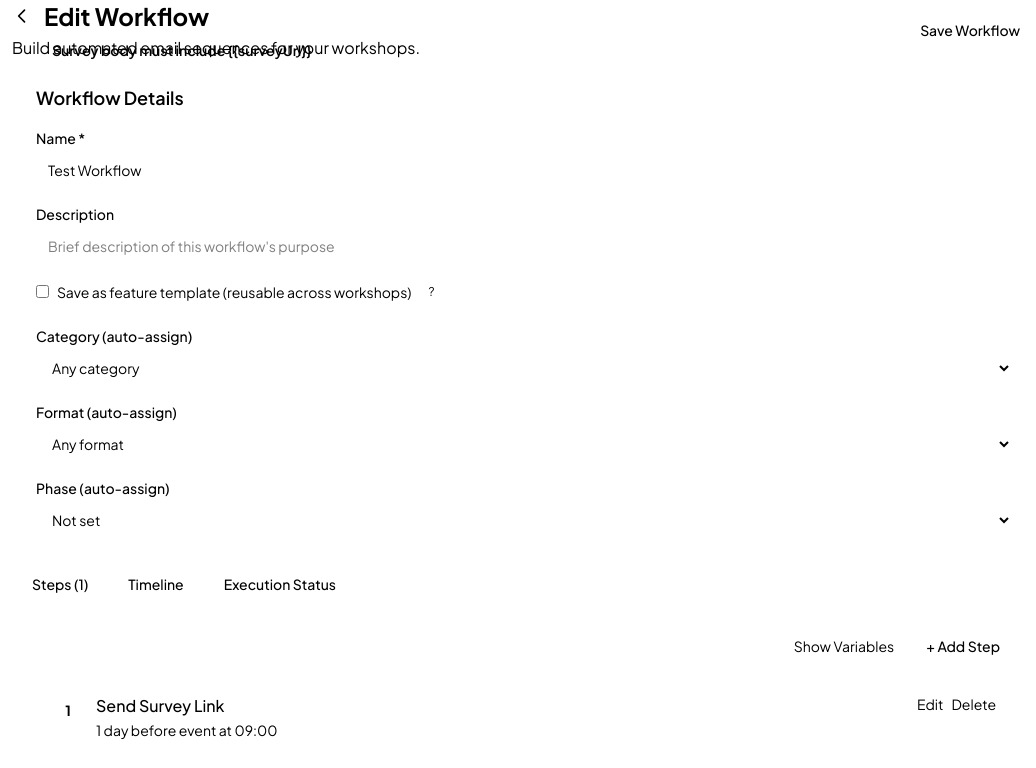
it: StepCard: blank body is allowed for SEND_SURVEY_LINK (uses default email)
This screenshot has width=1036, height=768.
Step 1. Click the button "Edit" → x=930, y=704, box [917,694,943,714]
(page scrolled)
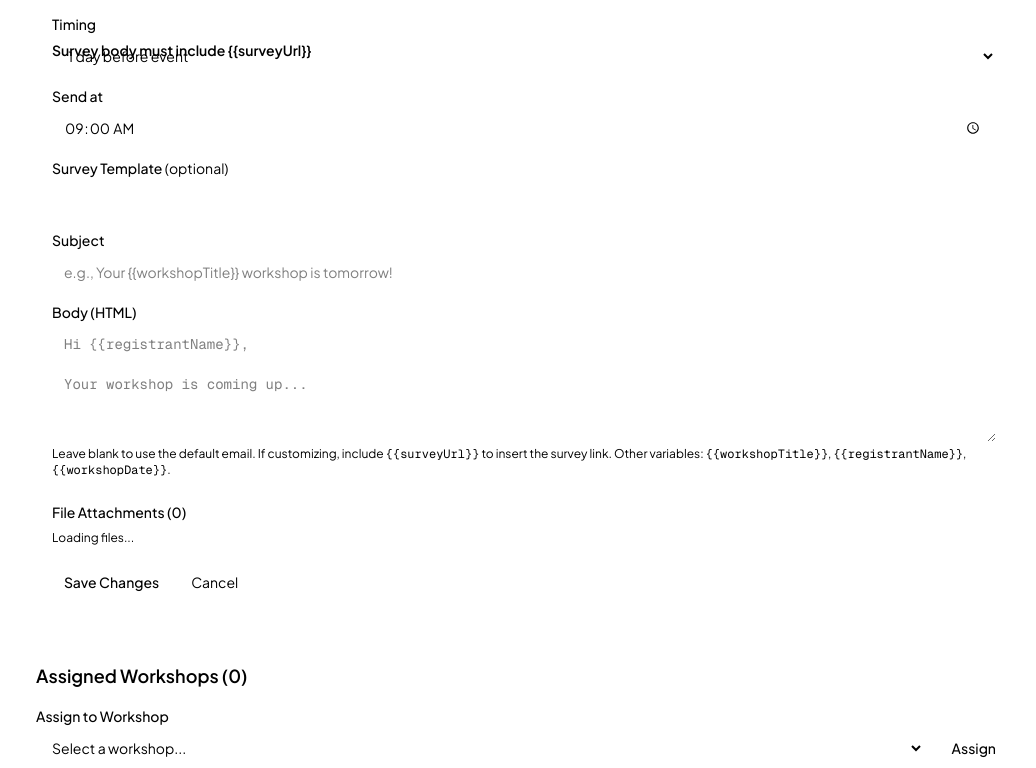
Result: the text box with placeholder "Hi {{registrantName}}, Your workshop is coming up..." is shown at [52,326,996,442]
Step 2. Click the button "Save Changes" → x=112, y=582, box [52,566,171,598]
(page scrolled)
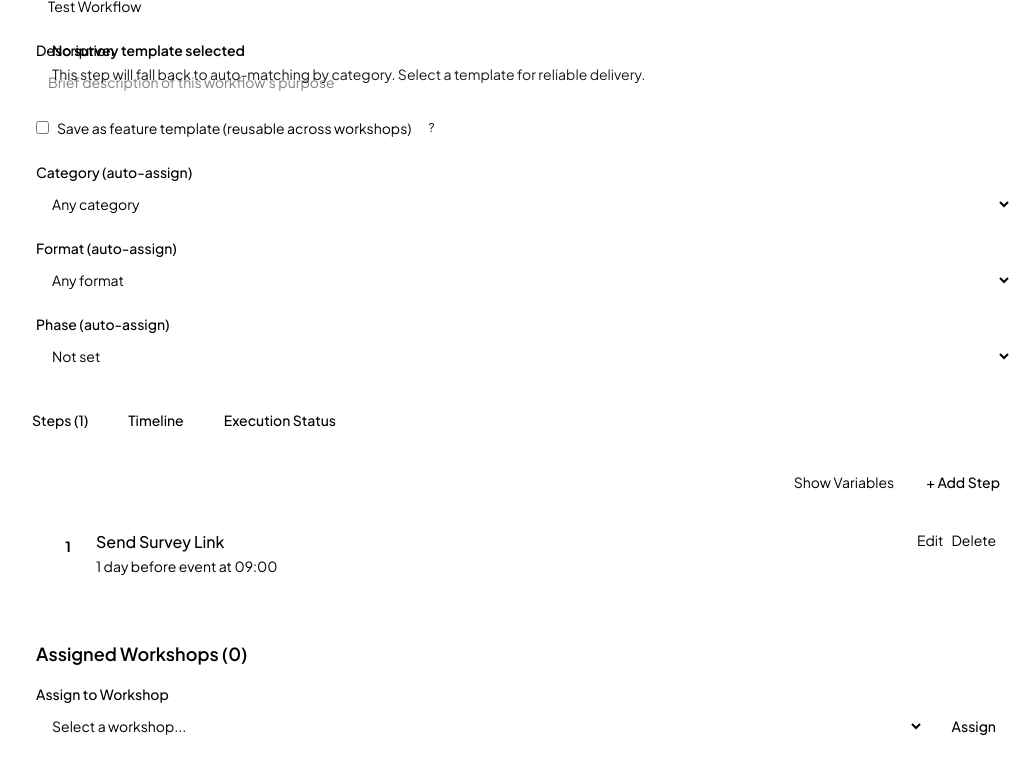
Result: the text "Survey body must include" is gone
